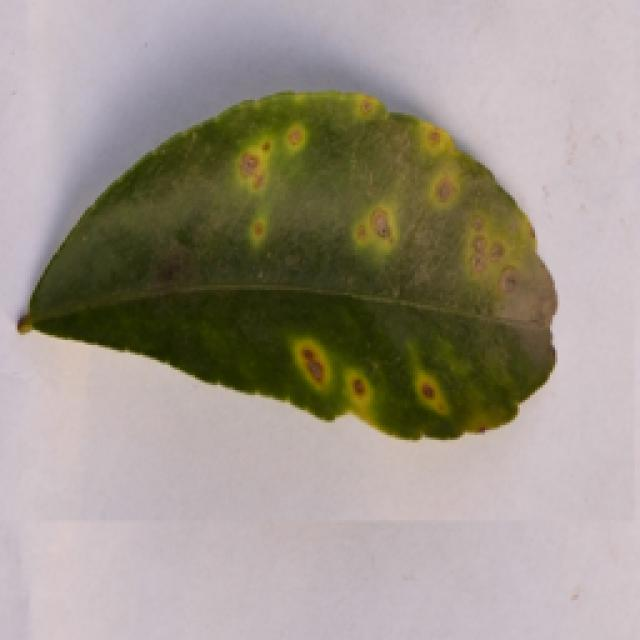canker: (170, 92, 569, 453)
